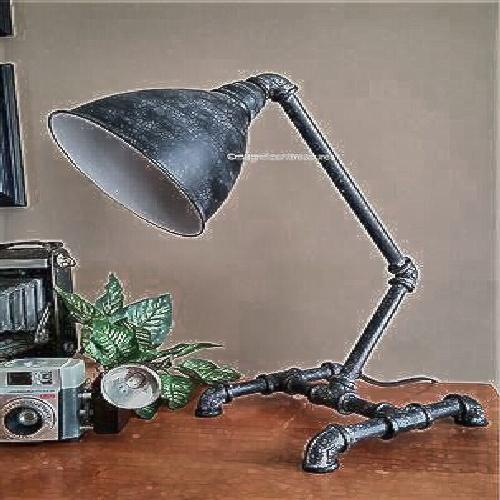lamp: (74, 66, 461, 459)
